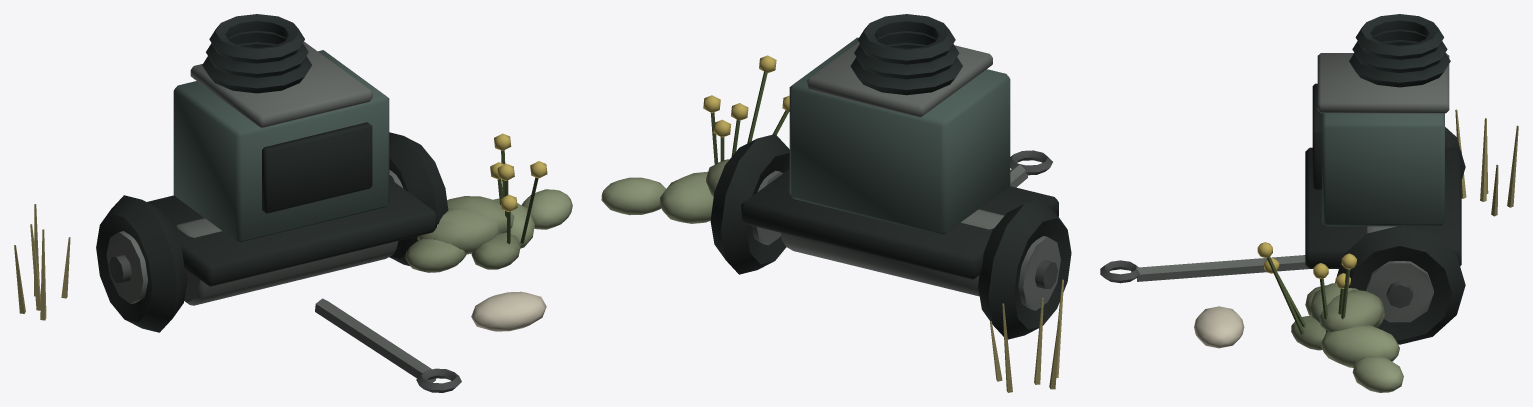
The model's file is compressor_cart_c.glb.
3 renders of one model, left to right at view 1: azimuth 30°, elevation 25°; view 2: azimuth 150°, elevation 25°; view 3: azimuth 270°, elevation 25°, orthographic. The views are drawn at different scales.
Parts seen in each view (by area): view 1: Surface; view 2: Surface; view 3: Surface.
Boxes of the visible parts, box(x1,y1,x2,y2) form: Surface: box(14, 14, 572, 392); Surface: box(601, 14, 1071, 392); Surface: box(1100, 14, 1518, 392).
Size of the model in its own units: 4.88 by 2.51 by 3.82.
